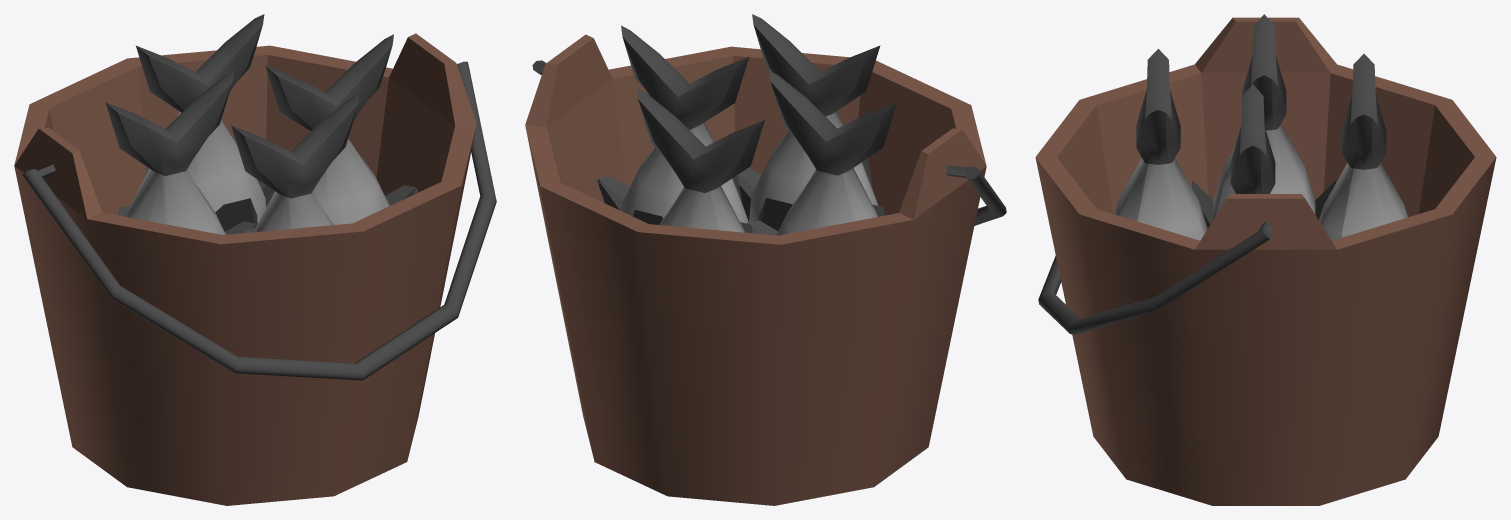
File: bucket.gltf
3 views of the same model, side by side, from view 1: azimuth 30°, elevation 25°; view 2: azimuth 150°, elevation 25°; view 3: azimuth 270°, elevation 25° (orthographic). The views are drawn at different scales.
Parts seen in each view (by area): view 1: cubo, peces_Material #340_0, peces_Material #341_0, asa; view 2: cubo, peces_Material #340_0, peces_Material #341_0, asa; view 3: cubo, peces_Material #340_0, peces_Material #341_0, asa.
Boxes of the visible parts, left/top/right/bottom form: cubo: left=14, top=33, right=476, bottom=505; peces_Material #340_0: left=105, top=14, right=417, bottom=234; peces_Material #341_0: left=125, top=112, right=389, bottom=234; asa: left=22, top=61, right=496, bottom=380; cubo: left=525, top=34, right=986, bottom=505; peces_Material #340_0: left=597, top=14, right=897, bottom=235; peces_Material #341_0: left=620, top=111, right=878, bottom=235; asa: left=532, top=60, right=1006, bottom=225; cubo: left=1035, top=17, right=1496, bottom=505; peces_Material #340_0: left=1136, top=14, right=1386, bottom=228; peces_Material #341_0: left=1114, top=124, right=1407, bottom=240; asa: left=1038, top=221, right=1273, bottom=335.
Bounding box in the file's own units: 3.05 × 2.4 × 2.8.
